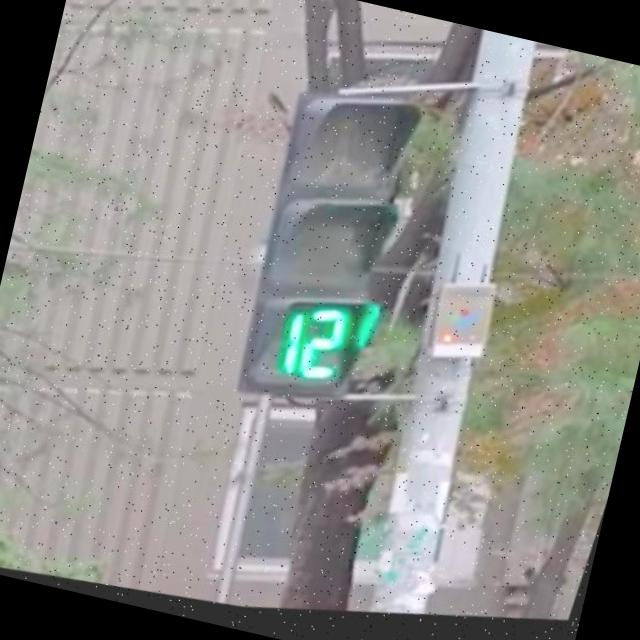green_light: (239, 194, 406, 420)
